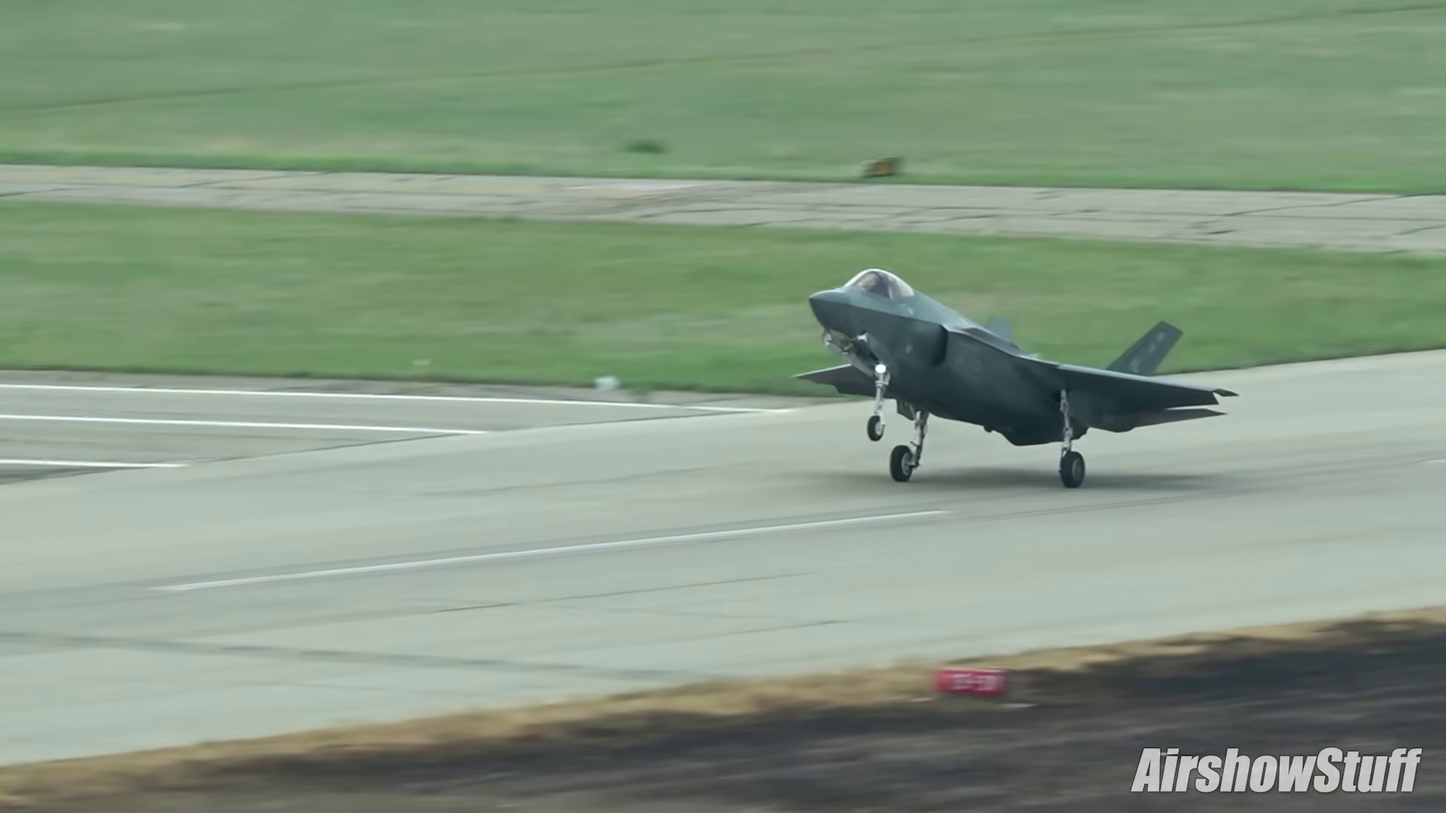F35: (788, 243, 1244, 497)
